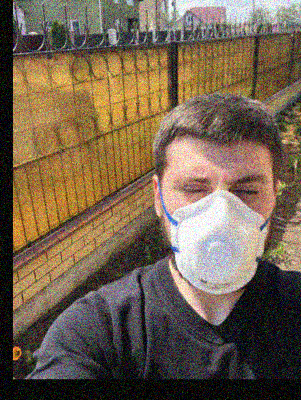with_mask: (163, 158, 272, 295)
